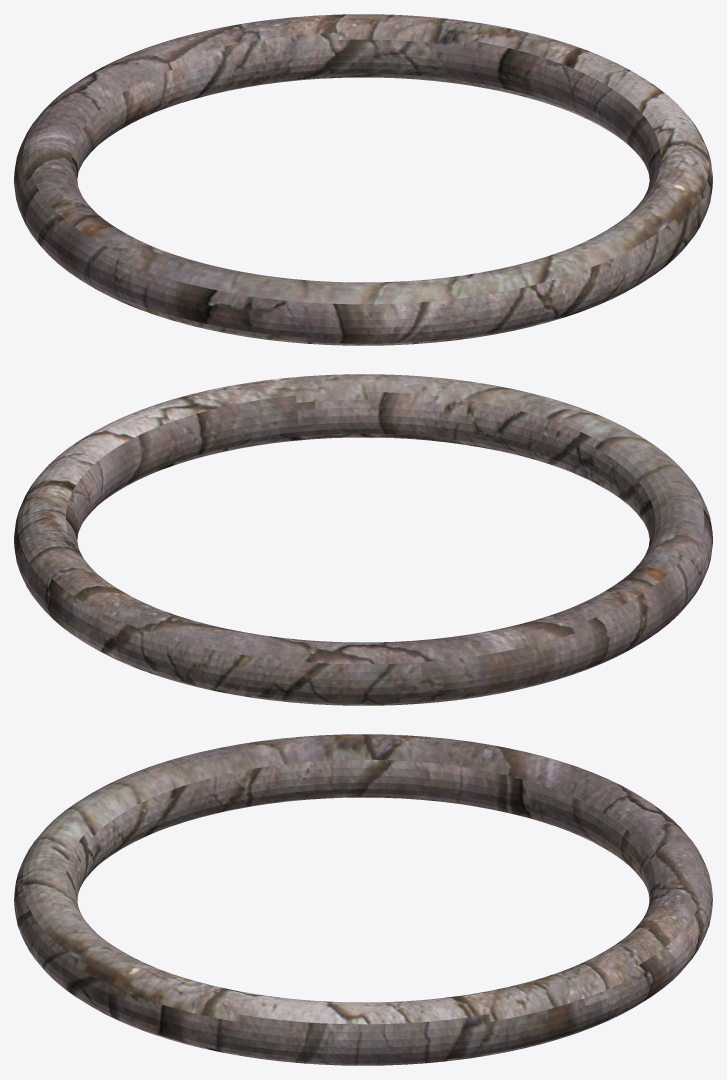
File: ring003.obj
The picture shows the model from 3 angles, top to bottom: view 1: azimuth 30°, elevation 25°; view 2: azimuth 150°, elevation 25°; view 3: azimuth 270°, elevation 25°; orthographic projection.
Visible parts, largest first — view 1: Torus; view 2: Torus; view 3: Torus.
Boxes of the visible parts, x1=… form: Torus: x1=14, y1=14, x2=712, y2=345; Torus: x1=14, y1=374, x2=712, y2=705; Torus: x1=14, y1=734, x2=712, y2=1065.
Size of the model in its own units: 5.5 by 0.499 by 5.5.
Materials: 1 (1 with a texture image).
